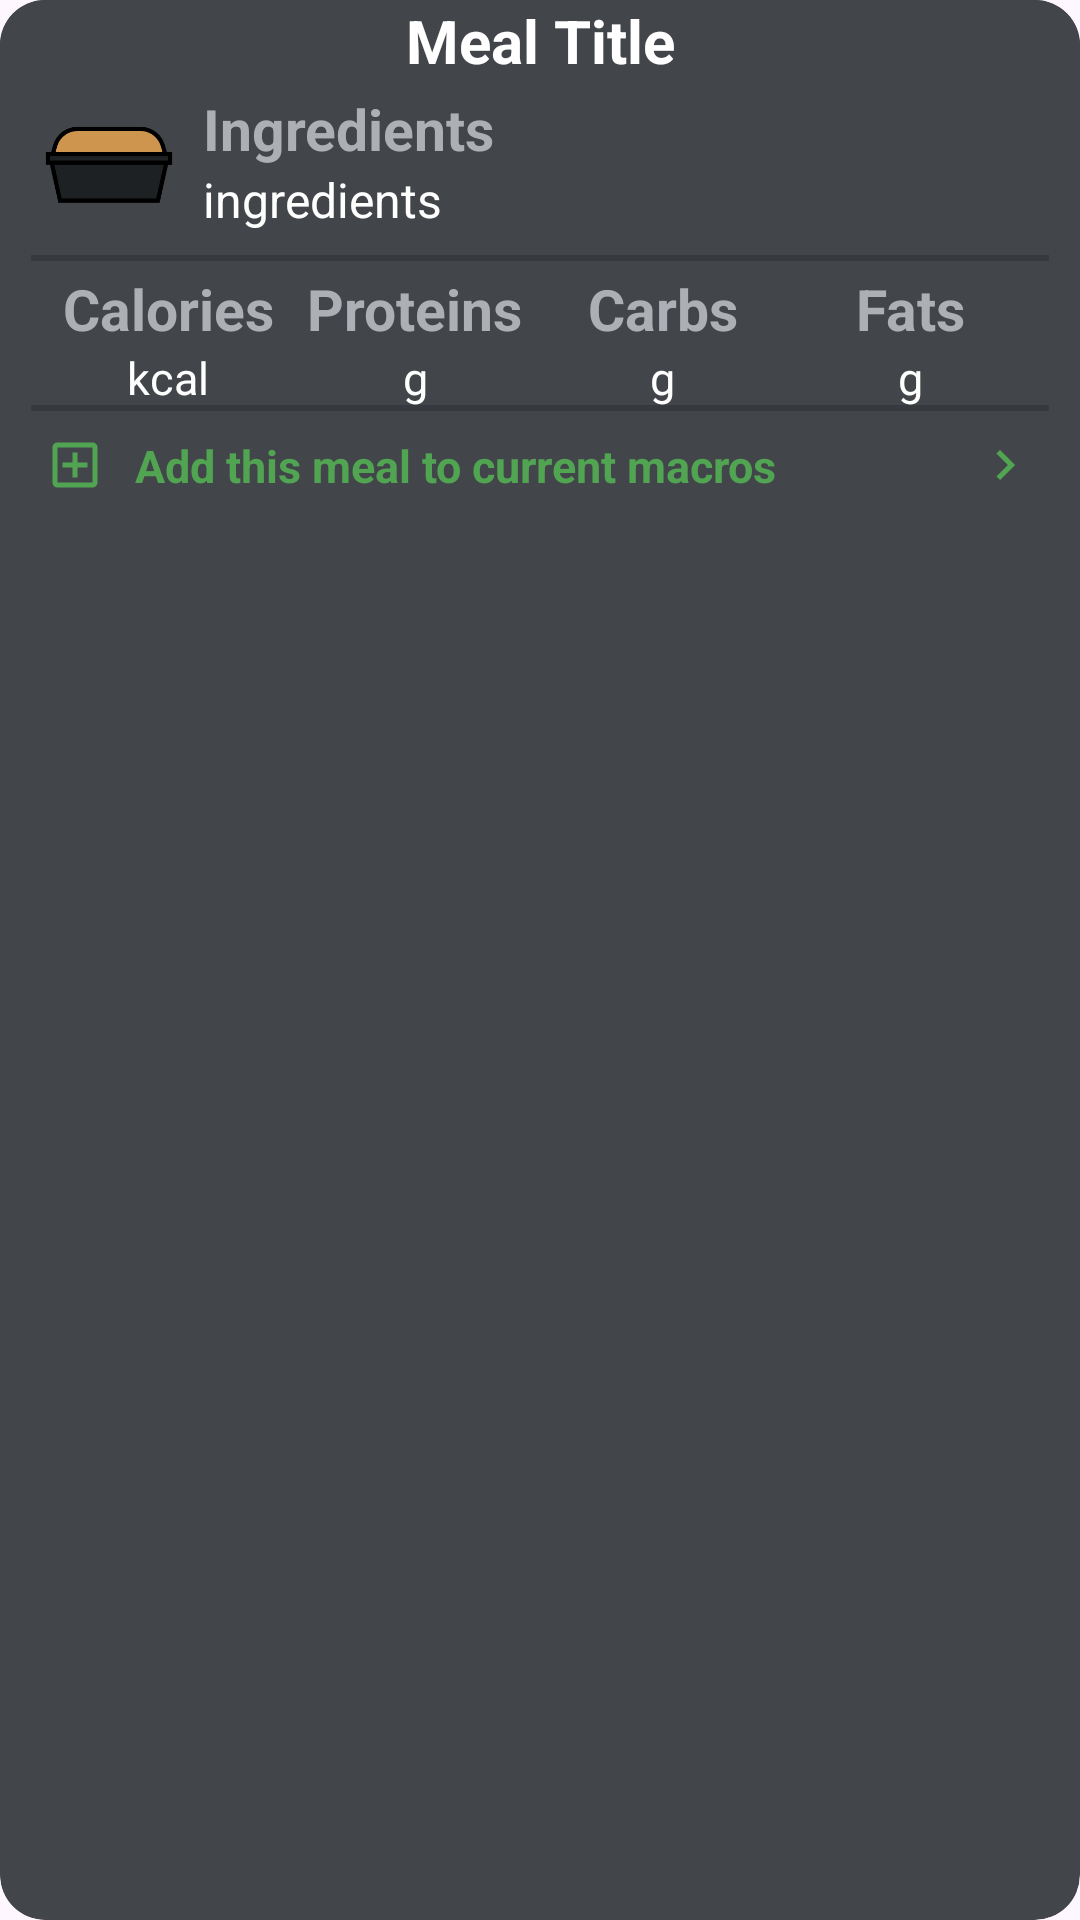

Where icons sit on this 1080*1920 app screen, as bbox=(x1, y1, x2, y2):
add box: bbox=(52, 442, 98, 488)
meal food symbol: bbox=(46, 127, 172, 203)
right arrow: bbox=(996, 450, 1015, 480)
